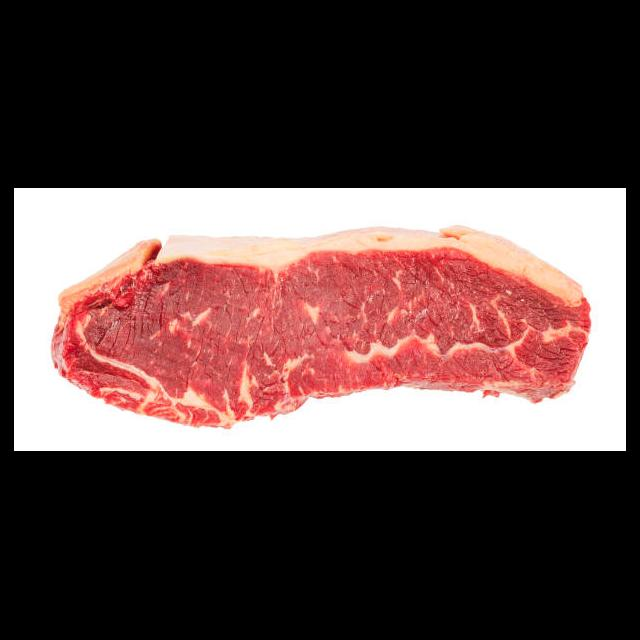beef: (50, 225, 592, 430)
